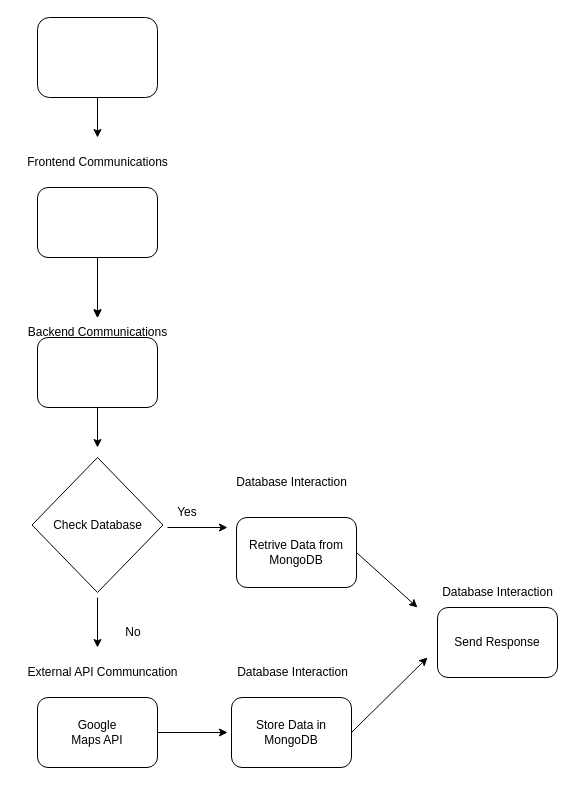
The diagram is 579 pixels wide and 785 high, and some of its shapes have lost their labels. Each missing label, with the centre of its shape:
Backend Server: pixel 97 222
Endpoint Routing: pixel 97 372
Enter Origin and Destination Address [ Get Directions]: pixel 97 57
